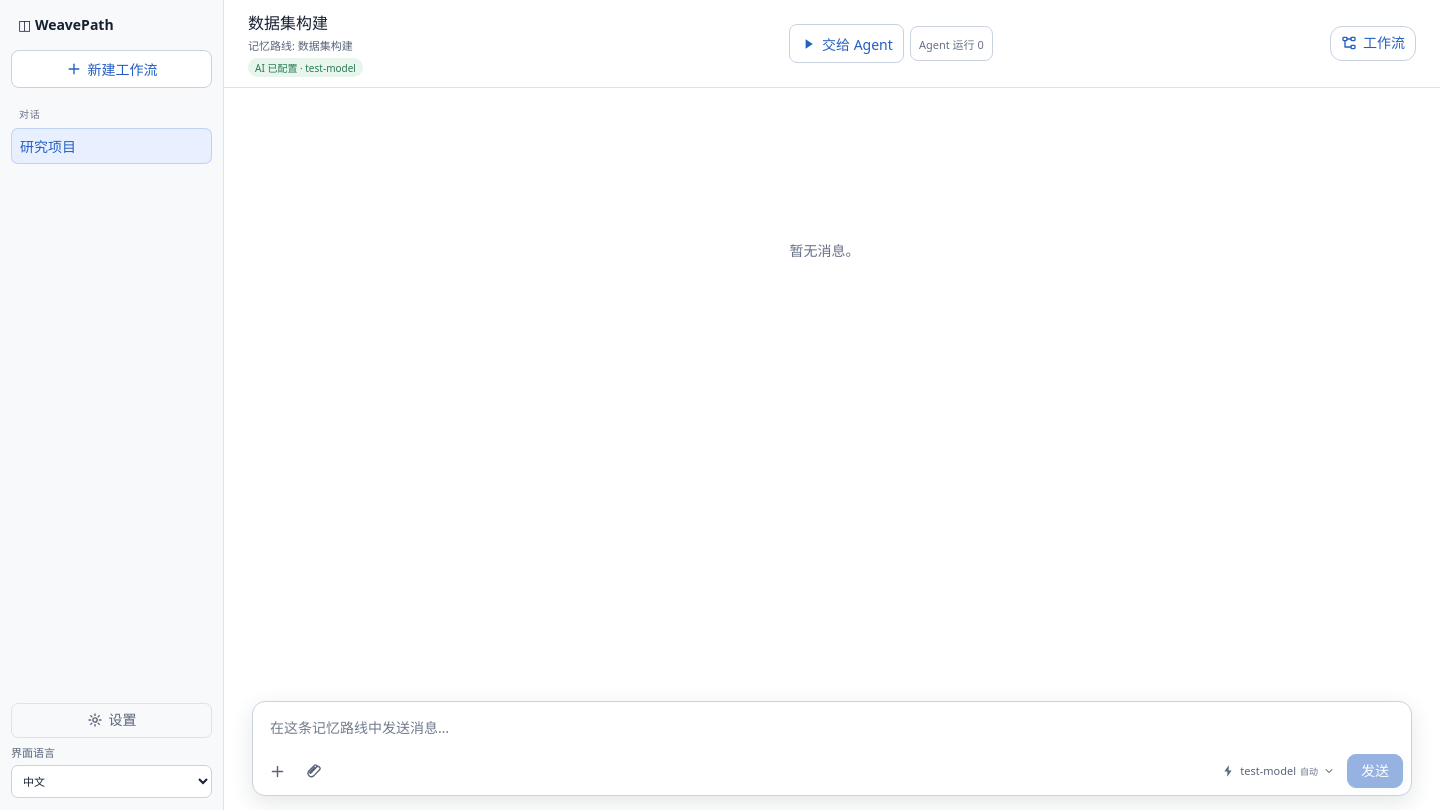
Scenario: chat delivery mode › changes reasoning effort beside the composer model without changing providers
Click the button with aria-label "切换模型: test-model · 自动". click: (1278, 771)
box: [1214,755,1342,787]
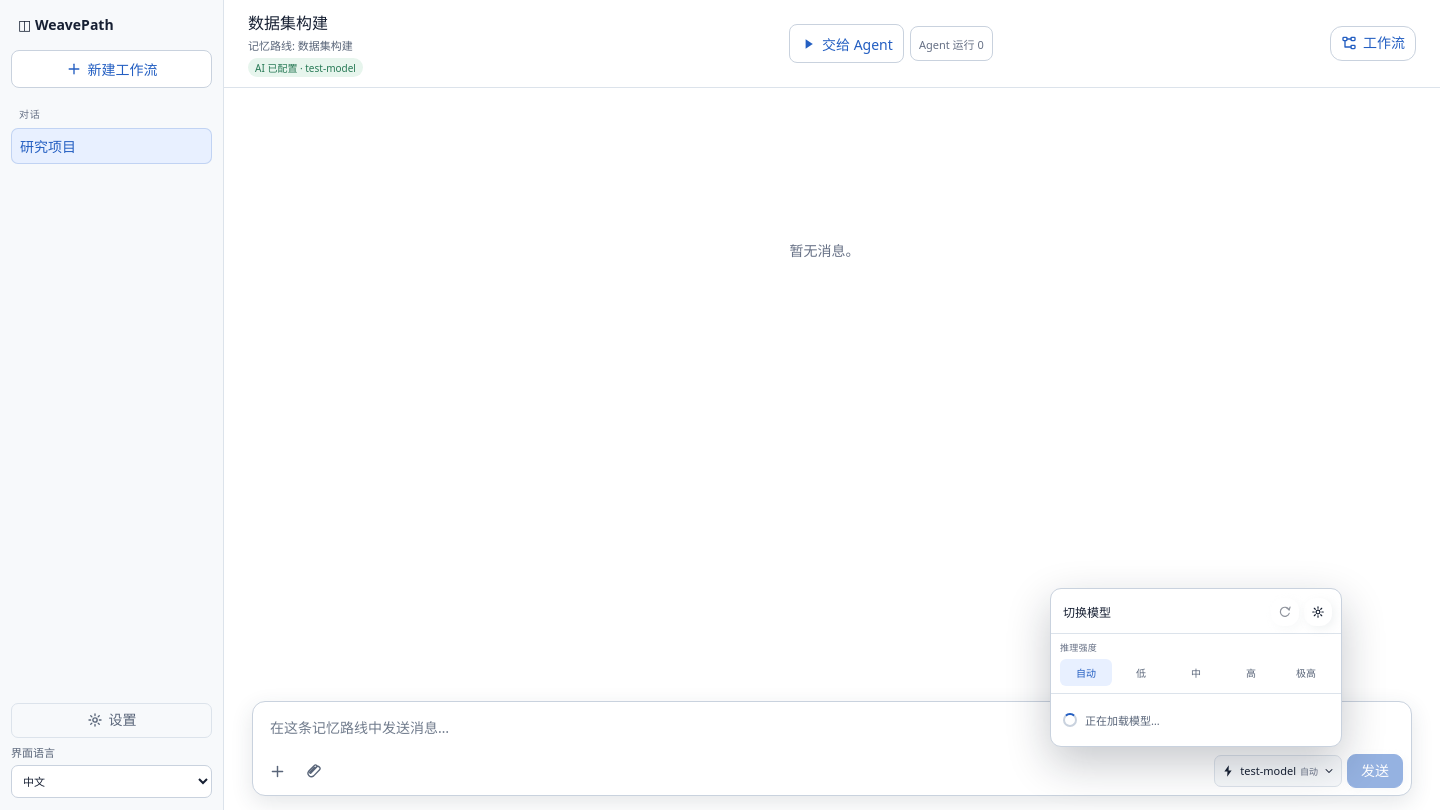
Click the button "高". click: (1251, 672)
box: [1225,659,1277,686]
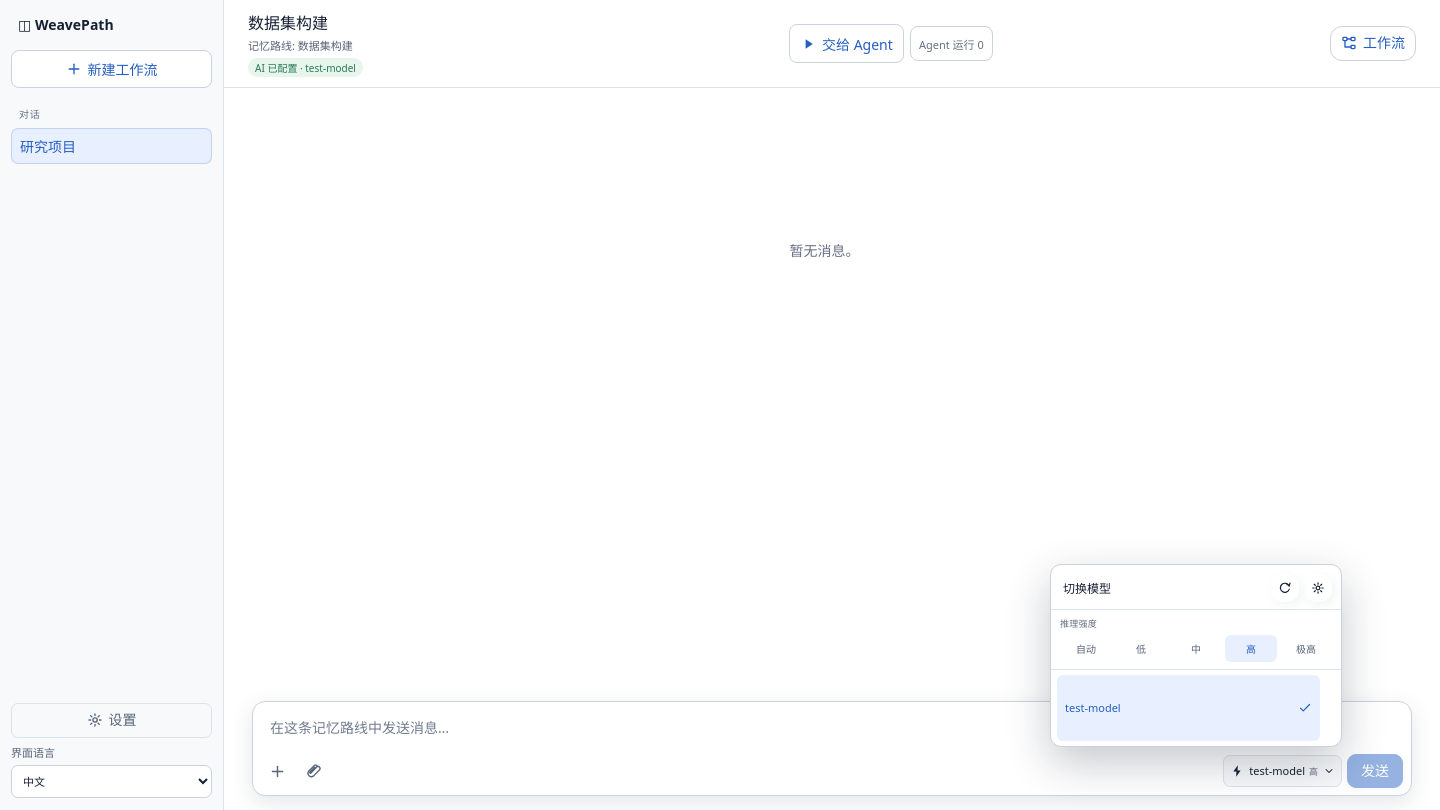
Now the button with aria-label "切换模型: test-model · 高" is shown, box [1223,755,1342,787]
